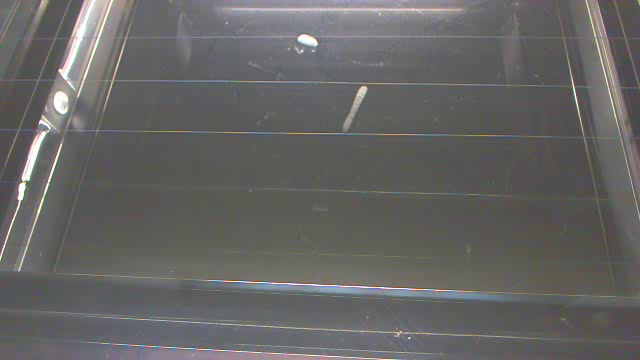Alfa: (341, 83, 377, 142), (292, 29, 323, 54)
